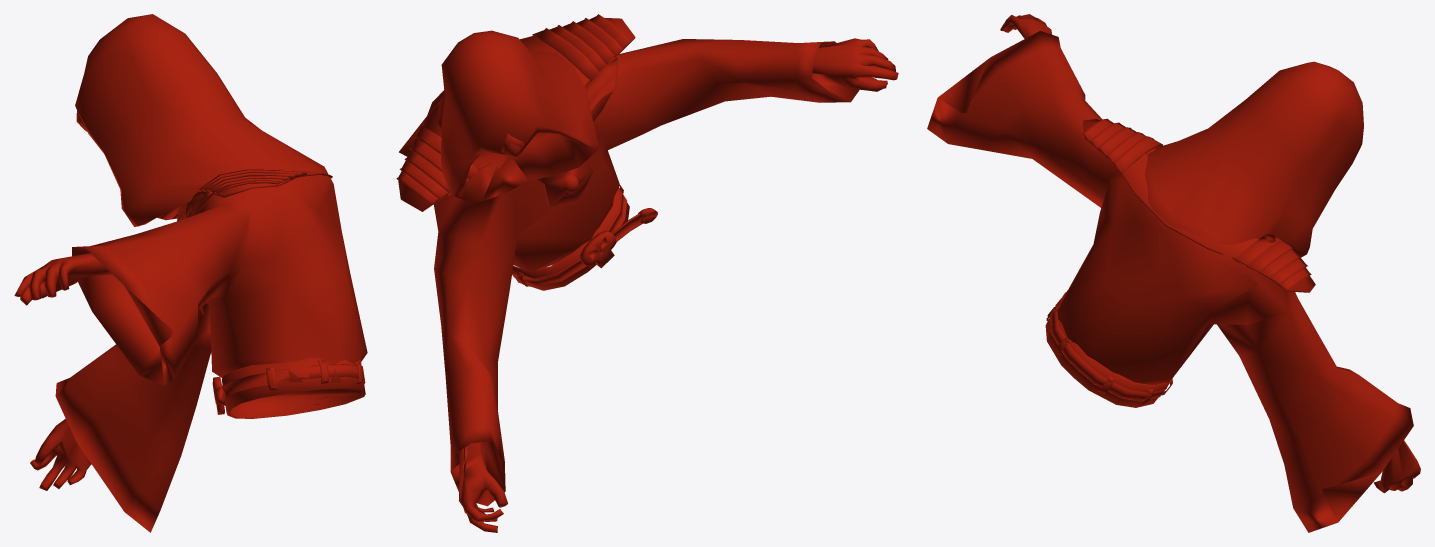
File: top_000072.obj
3 renders of one model, left to right at view 1: azimuth 30°, elevation 25°; view 2: azimuth 150°, elevation 25°; view 3: azimuth 270°, elevation 25°, orthographic. The views are drawn at different scales.
Parts seen in each view (by area): view 1: LowPoly_Warlock.000_Plane.005; view 2: LowPoly_Warlock.000_Plane.005; view 3: LowPoly_Warlock.000_Plane.005.
Boxes of the visible parts, x1,y1,x2,y2 form: LowPoly_Warlock.000_Plane.005: (14,14,367,532); LowPoly_Warlock.000_Plane.005: (396,14,898,532); LowPoly_Warlock.000_Plane.005: (927,14,1420,532).
Bounding box in the file's own units: 1.21 × 1.44 × 1.37.
